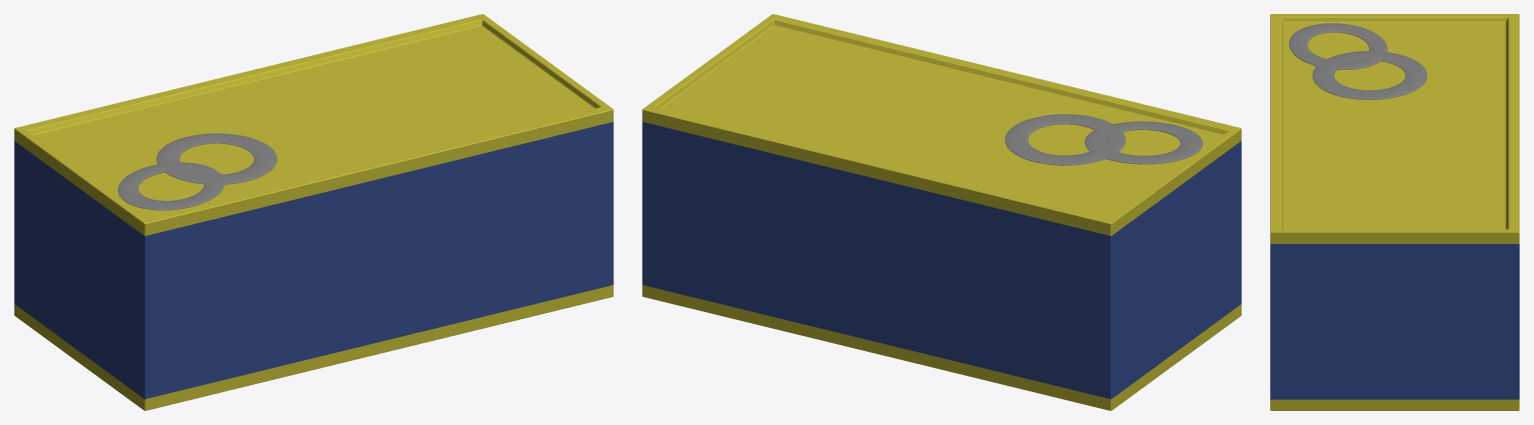
File: LongCanV1.fbx
3 renders of one model, left to right at view 1: azimuth 30°, elevation 25°; view 2: azimuth 150°, elevation 25°; view 3: azimuth 270°, elevation 25°, orthographic. The views are drawn at different scales.
Visible parts, largest first — view 1: Cube; view 2: Cube; view 3: Cube.
Part boxes in pixels (x1,y1,x2,y2): Cube: [14, 14, 613, 410]; Cube: [642, 14, 1241, 410]; Cube: [1270, 14, 1519, 410].
Size of the model in its own units: 122 by 253 by 96.87.
